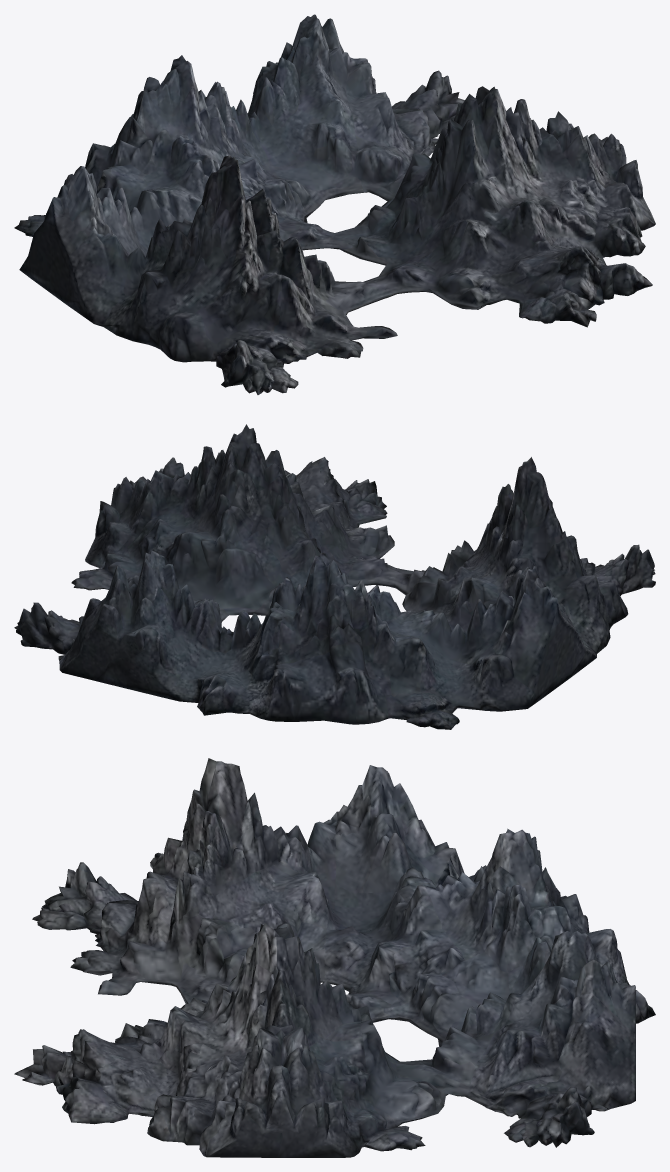
The model's file is mountains.mobile.glb.
3 renders of one model, top to bottom at view 1: azimuth 30°, elevation 25°; view 2: azimuth 150°, elevation 25°; view 3: azimuth 270°, elevation 25°, orthographic. The views are drawn at different scales.
Visible parts, largest first — view 1: mountains; view 2: mountains; view 3: mountains.
Boxes of the visible parts, bbox=[...] form: mountains: bbox=[14, 14, 655, 394]; mountains: bbox=[14, 424, 655, 729]; mountains: bbox=[14, 758, 655, 1157].
Size of the model in its own units: 0.9796 by 0.2965 by 0.9564.
1 material, 1 textured.
